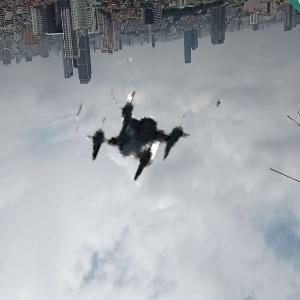drone: (70, 53, 216, 199)
